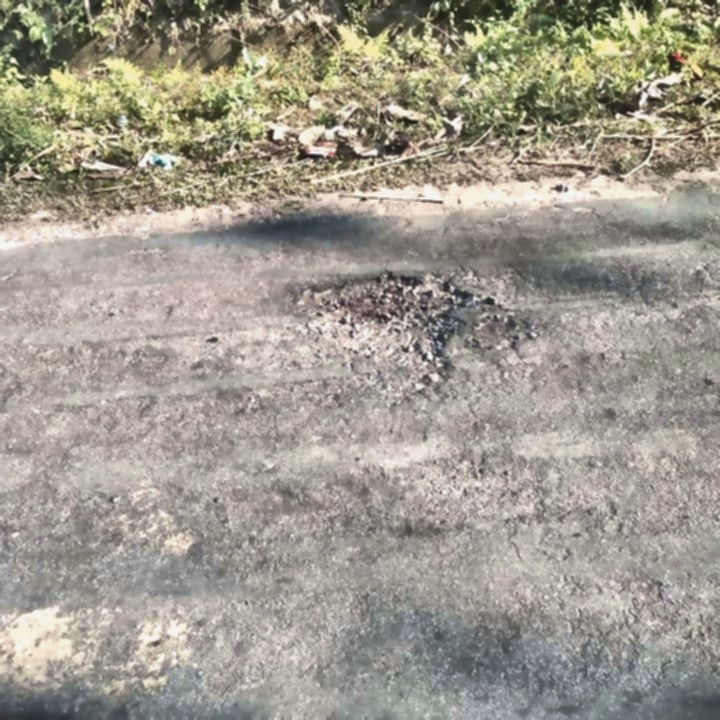pothole: (287, 271, 486, 387)
